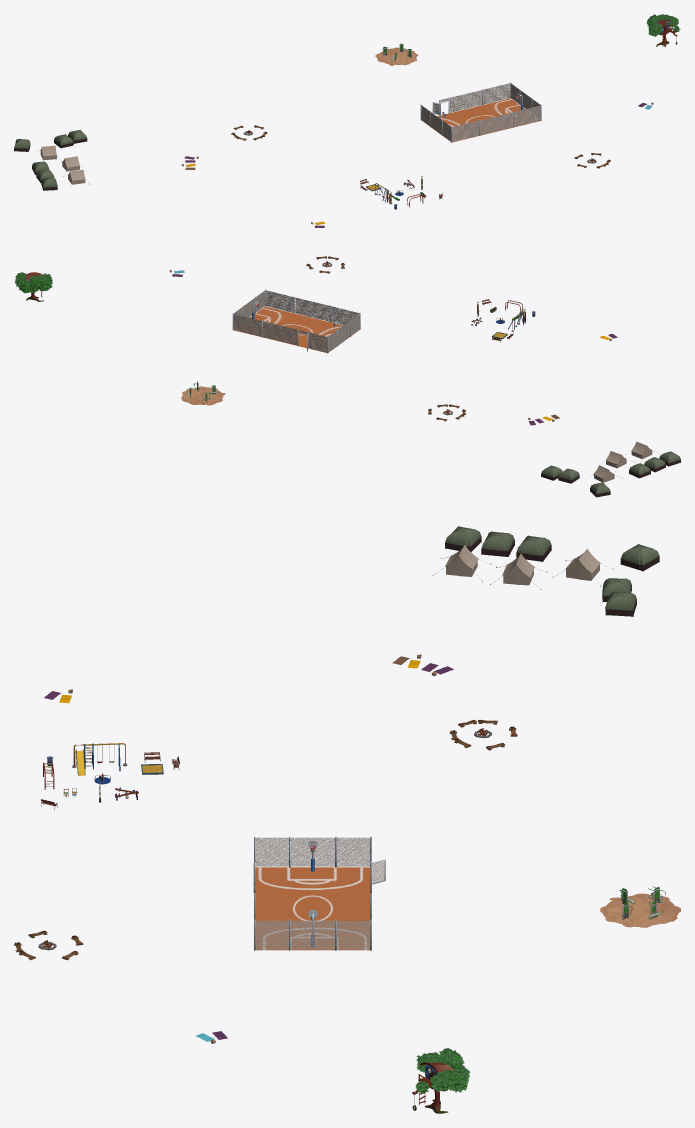
File: rzeczy_NIEcolliderowe2.fbx
3 views of the same model, one above another, from view 1: azimuth 30°, elevation 25°; view 2: azimuth 150°, elevation 25°; view 3: azimuth 270°, elevation 25° (orthographic). The views are drawn at different scales.
Visible parts, largest first — view 1: rzeczy_NIEcolliderowe; view 2: rzeczy_NIEcolliderowe; view 3: rzeczy_NIEcolliderowe.
Part boxes in pixels (x1,y1,x2,y2): rzeczy_NIEcolliderowe: (14,14,680,227); rzeczy_NIEcolliderowe: (14,256,680,497); rzeczy_NIEcolliderowe: (14,526,680,1113).
Size of the model in its own units: 16410 by 705 by 7898.
Materials: 21 (8 with a texture image).
